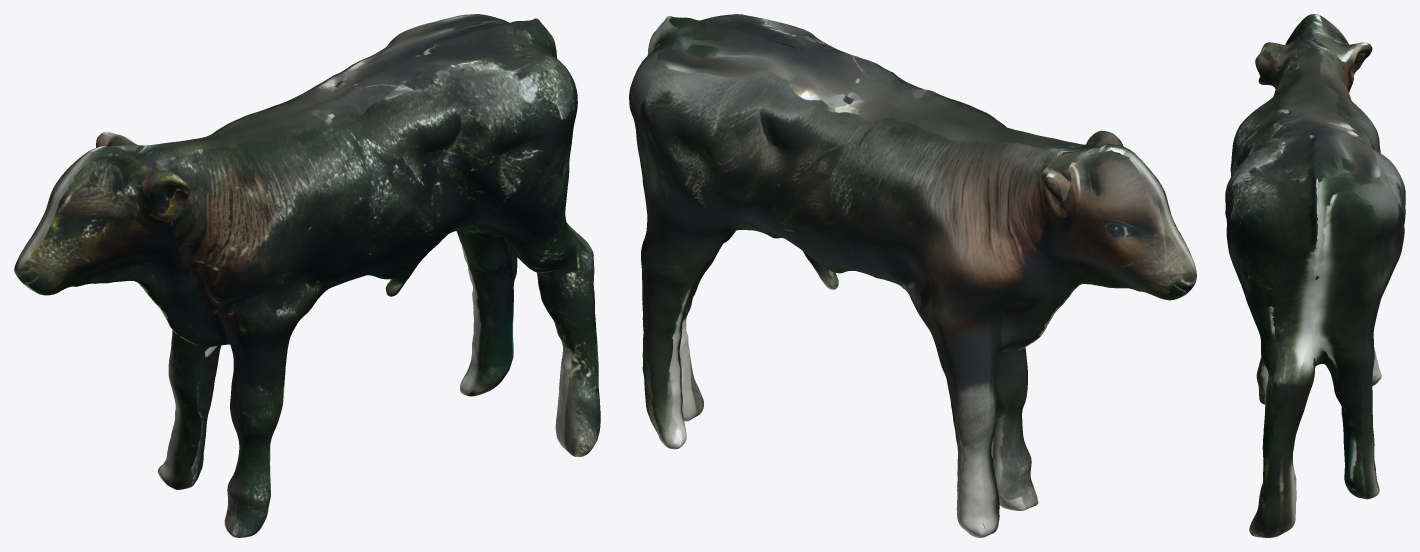
Rendered from bebe.glb.
The picture shows the model from 3 angles, left to right: view 1: azimuth 30°, elevation 25°; view 2: azimuth 150°, elevation 25°; view 3: azimuth 270°, elevation 25°; orthographic projection. The views are drawn at different scales.
Parts seen in each view (by area): view 1: mesh; view 2: mesh; view 3: mesh.
Part boxes in pixels (x1,y1,x2,y2): mesh: (14, 14, 600, 537); mesh: (629, 14, 1196, 537); mesh: (1225, 14, 1405, 537).
Bounding box in the file's own units: 1.66 × 1.2 × 0.5496.
Materials: 1 (1 with a texture image).
